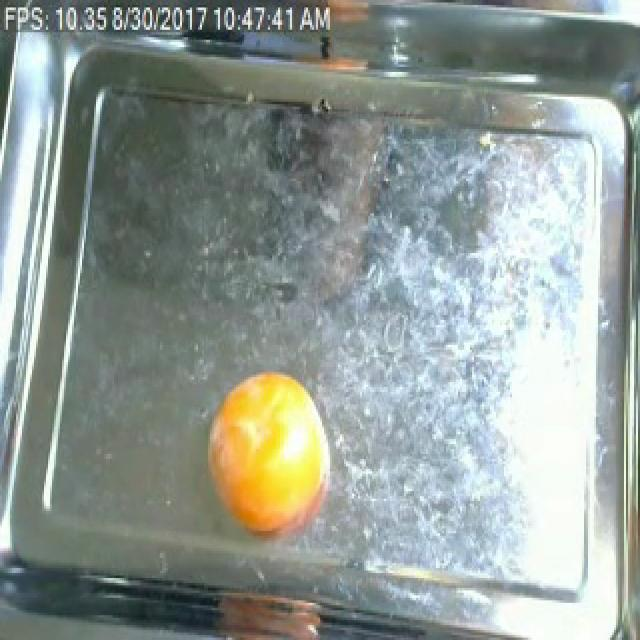Fruit: (204, 365, 336, 543), (310, 0, 382, 32)
